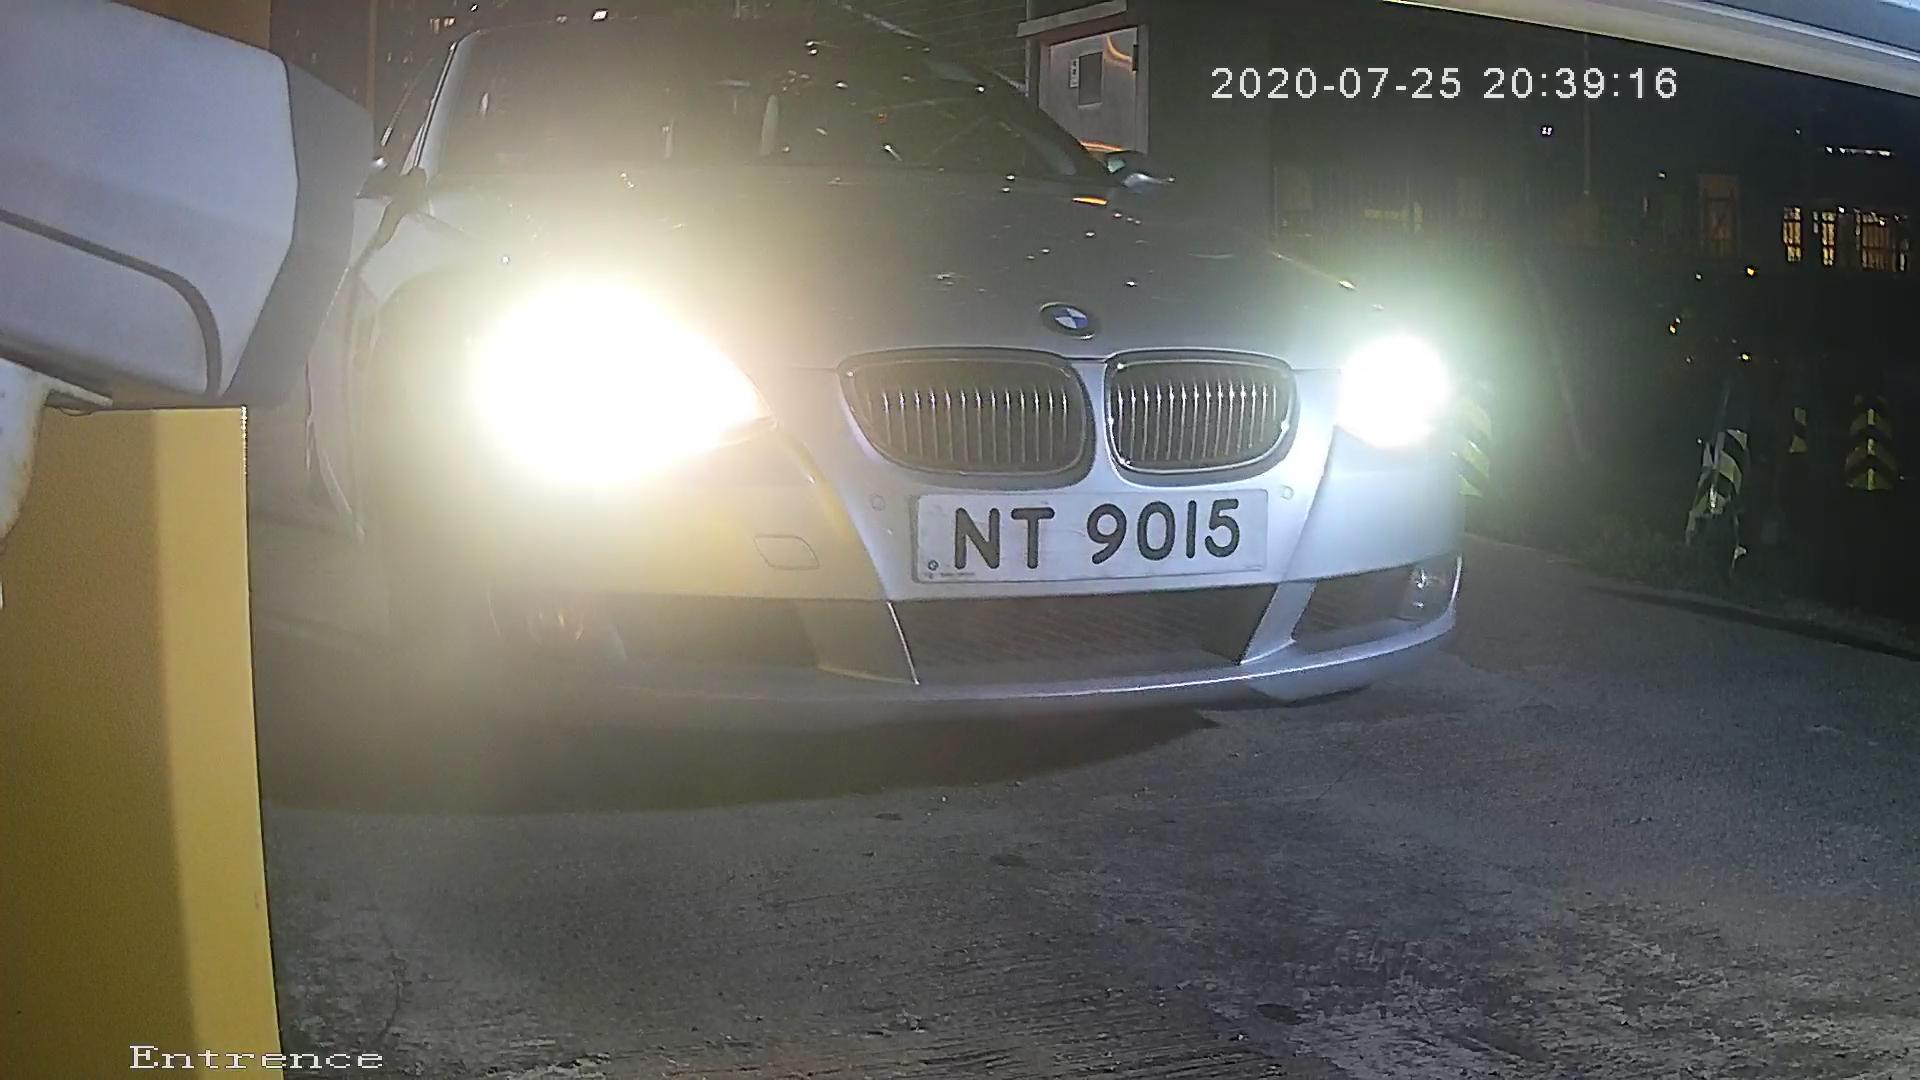License Plate: (849, 449, 1286, 613)
